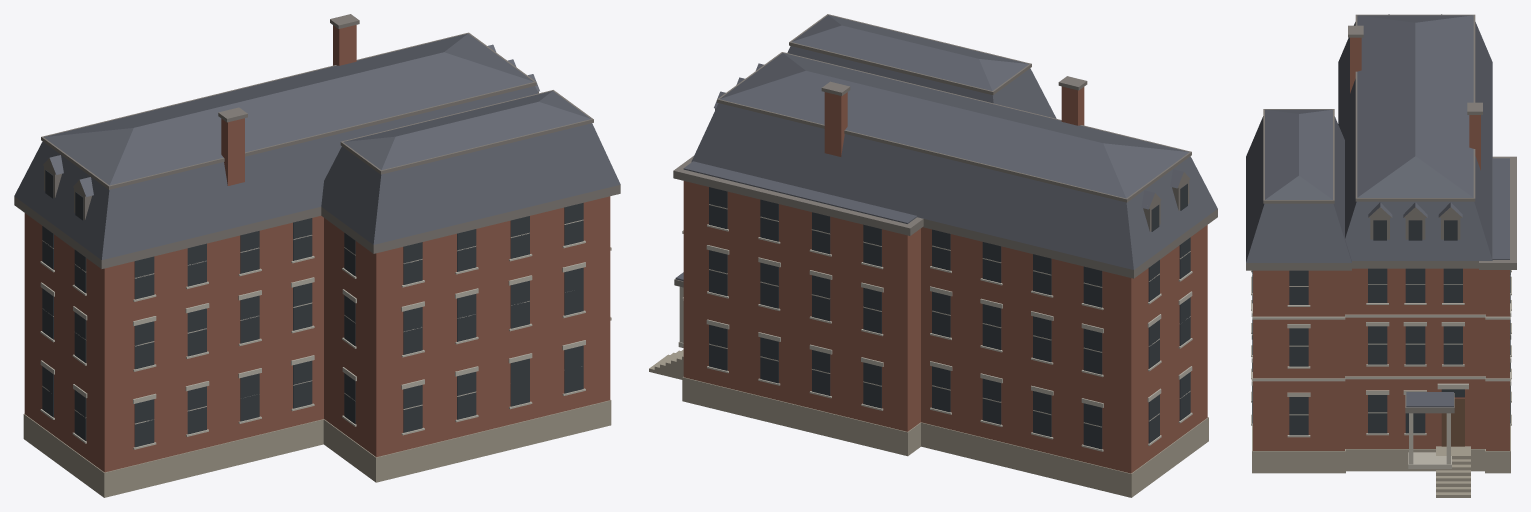
Rendered from henderson_house_1816_prairie__draft_1904.glb.
3 renders of one model, left to right at view 1: azimuth 30°, elevation 25°; view 2: azimuth 150°, elevation 25°; view 3: azimuth 270°, elevation 25°, orthographic. The views are drawn at different scales.
Visible parts, largest first — view 1: henderson_house_1816_prairie__draft_1904; view 2: henderson_house_1816_prairie__draft_1904; view 3: henderson_house_1816_prairie__draft_1904.
Boxes of the visible parts, <box> form: henderson_house_1816_prairie__draft_1904: <box>14,14,620,497</box>; henderson_house_1816_prairie__draft_1904: <box>649,14,1217,497</box>; henderson_house_1816_prairie__draft_1904: <box>1246,14,1516,497</box>.
Size of the model in its own units: 27.15 by 17.38 by 13.95.
